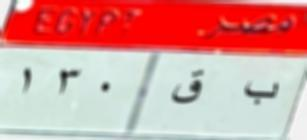0: (94, 75, 115, 103)
1: (15, 63, 38, 103)
3: (57, 65, 82, 96)
baa: (240, 74, 280, 110)
qaaf: (168, 66, 207, 112)
